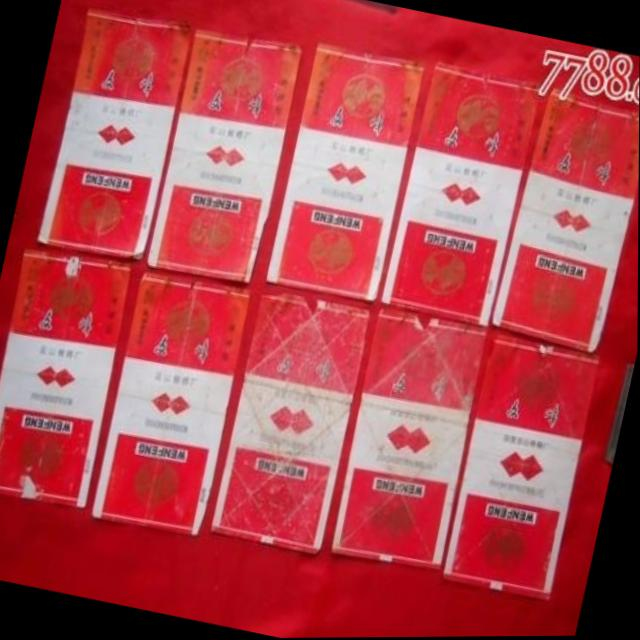box: (93, 271, 250, 539), (382, 65, 541, 328), (210, 292, 369, 555), (443, 336, 600, 601), (265, 44, 425, 302), (146, 28, 303, 285), (331, 311, 486, 570), (37, 6, 192, 261), (492, 93, 639, 354), (0, 249, 131, 510)
